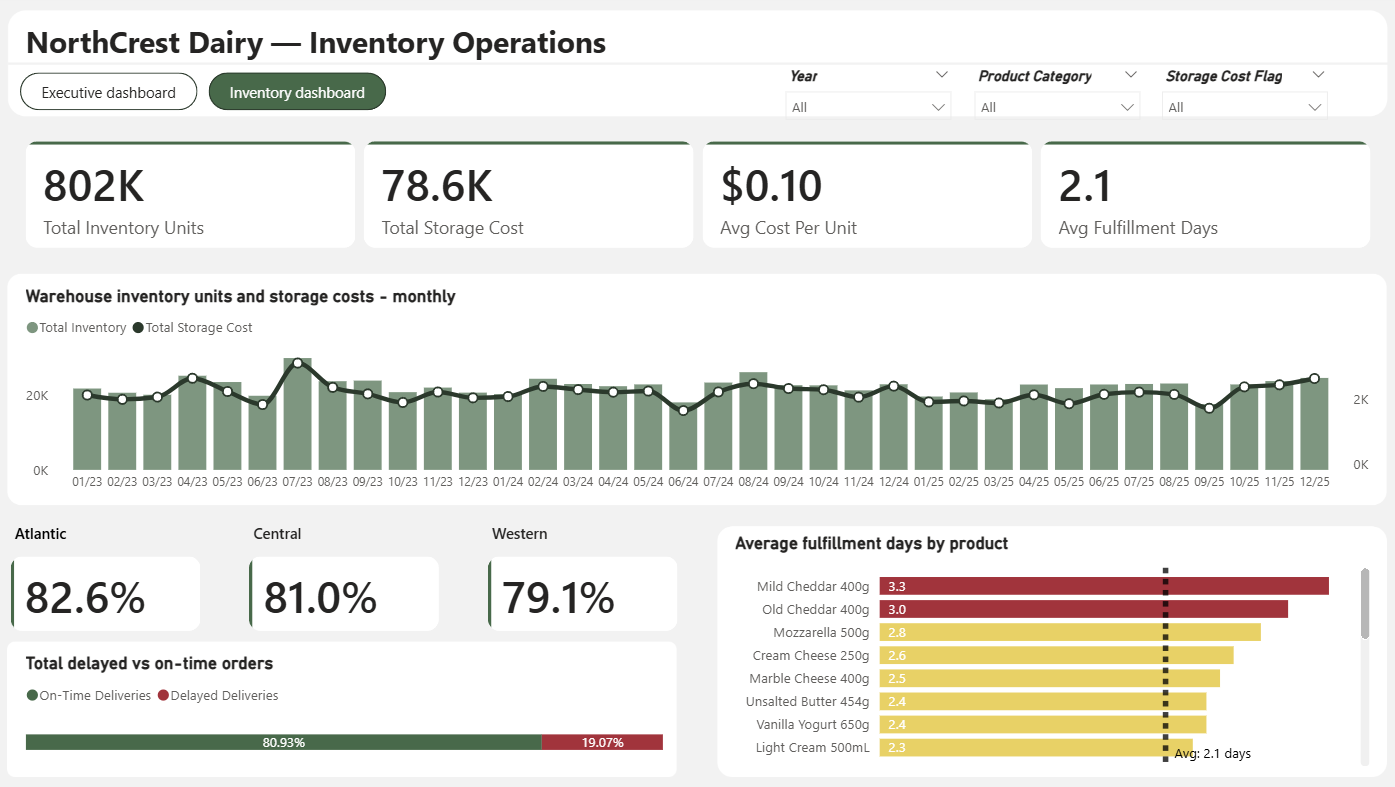

Layout of this report page (visuals, bound fields, positions):
{"tool":"powerbi","page":{"name":"Inventory dashboard","canvas":[1280,720],"ordinal":1},"visuals":[{"type":"slicer","fields":{"Values":["dates.Date.Variation.Date Hierarchy.Year"]},"box":[710.2,62.1,169.6,54.5],"z":0},{"type":"slicer","fields":{"Values":["inventory.Product Category"]},"box":[879.8,62.1,169.6,54.5],"z":1000},{"type":"slicer","fields":{"Values":["inventory.Storage Cost Flag"]},"box":[1049.3,62.1,169.6,54.5],"z":2000},{"type":"textbox","box":[30.3,19.7,679.9,57.5],"z":3000},{"type":"pageNavigator","box":[30.3,71.2,331.6,34.8],"z":4000},{"type":"cardVisual","fields":{"Data":["inventory.Total Inventory","inventory.Total Storage Cost","inventory.Avg Storage Cost Per Unit","Avg(fulfillment.Warehouse Order Fulfillment (days))"]},"box":[16.9,116.9,1246.2,130.8],"z":5000},{"type":"lineClusteredColumnComboChart","title":"Warehouse inventory units and storage costs - monthly","fields":{"Y":["inventory.Total Inventory"],"Y2":["inventory.Total Storage Cost"],"Category":["inventory.Year Month Label"]},"box":[30.3,263.5,1220.4,193.8],"z":6000},{"type":"clusteredBarChart","title":"Average fulfillment days by product","fields":{"Category":["fulfillment.Product Name"],"Y":["Avg(fulfillment.Warehouse Order Fulfillment (days))"]},"box":[669.3,486.1,581.5,215],"z":7000},{"type":"hundredPercentStackedBarChart","title":"Total delayed vs on-time orders","fields":{"Y":["orders.On-Time Deliveries","orders.Delayed Deliveries"]},"box":[30.3,595.1,584.5,106],"z":8000},{"type":"cardVisual","title":"On-time delivery rate by re","fields":{"Data":["orders.On-Time Delivery Rate %"],"Rows":["orders.Region Short"]},"box":[4.5,425.5,636,186.2],"z":9000}]}

Visuals, with their boxes in screenshot pixels (x1, y1, x2, y2), scaled from the page's 1280x720 canvas onto the 1395x787 screenshot:
slicer - dates.Date.Variation.Date Hierarchy.Year: [774, 68, 959, 127]
slicer - inventory.Product Category: [959, 68, 1144, 127]
slicer - inventory.Storage Cost Flag: [1144, 68, 1328, 127]
textbox: [33, 22, 774, 84]
pageNavigator: [33, 78, 394, 116]
cardVisual - inventory.Total Inventory x inventory.Total Storage Cost: [18, 128, 1377, 271]
"Warehouse inventory units and storage costs - monthly" lineClusteredColumnComboChart: [33, 288, 1363, 500]
"Average fulfillment days by product" clusteredBarChart: [729, 531, 1363, 766]
"Total delayed vs on-time orders" hundredPercentStackedBarChart: [33, 650, 670, 766]
"On-time delivery rate by re" cardVisual: [5, 465, 698, 669]
